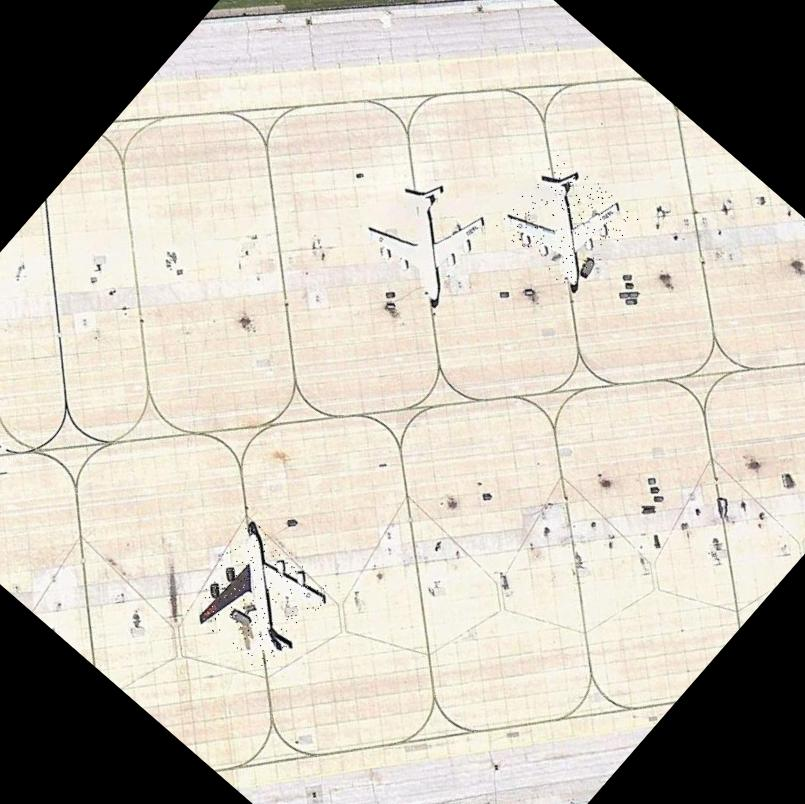A11: (178, 520, 335, 676), (355, 165, 500, 310), (494, 150, 638, 294)
